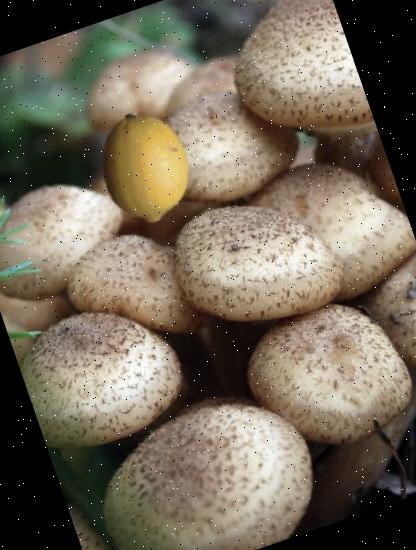Lemon: (75, 97, 216, 236)
